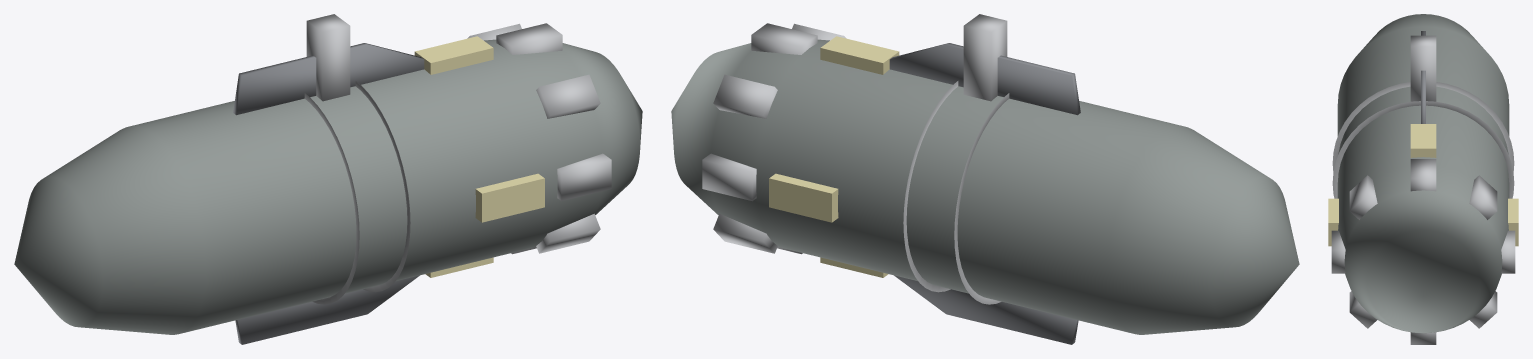
File: RU_MINE_PMR2_LOD0.fbx
3 renders of one model, left to right at view 1: azimuth 30°, elevation 25°; view 2: azimuth 150°, elevation 25°; view 3: azimuth 270°, elevation 25°, orthographic. The views are drawn at different scales.
Visible parts, largest first — view 1: WPN_RU_MINE_PMR2_LOD0_Body, WPN_RU_MINE_PMR2_LOD0_Detail, WPN_RU_MINE_PMR2_LOD0_Marking; view 2: WPN_RU_MINE_PMR2_LOD0_Body, WPN_RU_MINE_PMR2_LOD0_Detail, WPN_RU_MINE_PMR2_LOD0_Marking; view 3: WPN_RU_MINE_PMR2_LOD0_Body, WPN_RU_MINE_PMR2_LOD0_Detail, WPN_RU_MINE_PMR2_LOD0_Marking.
Part boxes in pixels (box(x1,y1,x2,y2)): WPN_RU_MINE_PMR2_LOD0_Body: box(14, 39, 642, 334); WPN_RU_MINE_PMR2_LOD0_Detail: box(233, 14, 611, 344); WPN_RU_MINE_PMR2_LOD0_Marking: box(414, 36, 544, 277); WPN_RU_MINE_PMR2_LOD0_Body: box(671, 39, 1299, 334); WPN_RU_MINE_PMR2_LOD0_Detail: box(702, 14, 1080, 344); WPN_RU_MINE_PMR2_LOD0_Marking: box(769, 36, 899, 277); WPN_RU_MINE_PMR2_LOD0_Body: box(1337, 14, 1509, 333); WPN_RU_MINE_PMR2_LOD0_Detail: box(1331, 31, 1515, 344); WPN_RU_MINE_PMR2_LOD0_Marking: box(1328, 124, 1518, 246).
Size of the model in its own units: 1.8 by 0.5883 by 0.8189.
